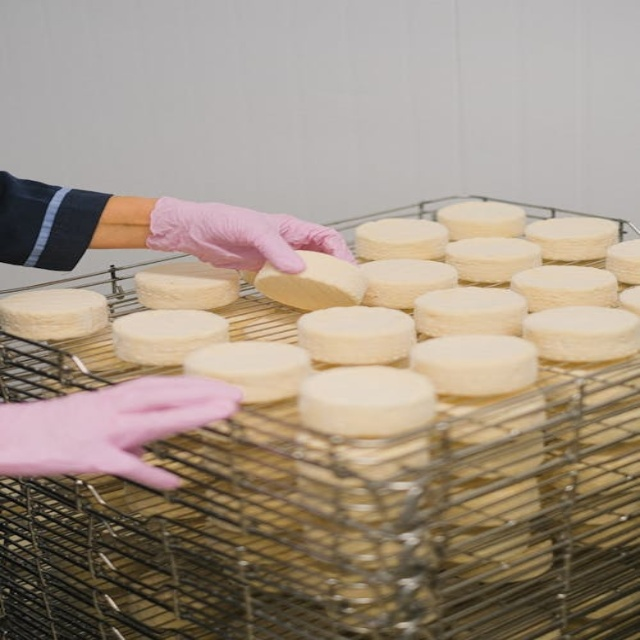Guantes: (5, 369, 253, 492), (146, 198, 357, 276)
